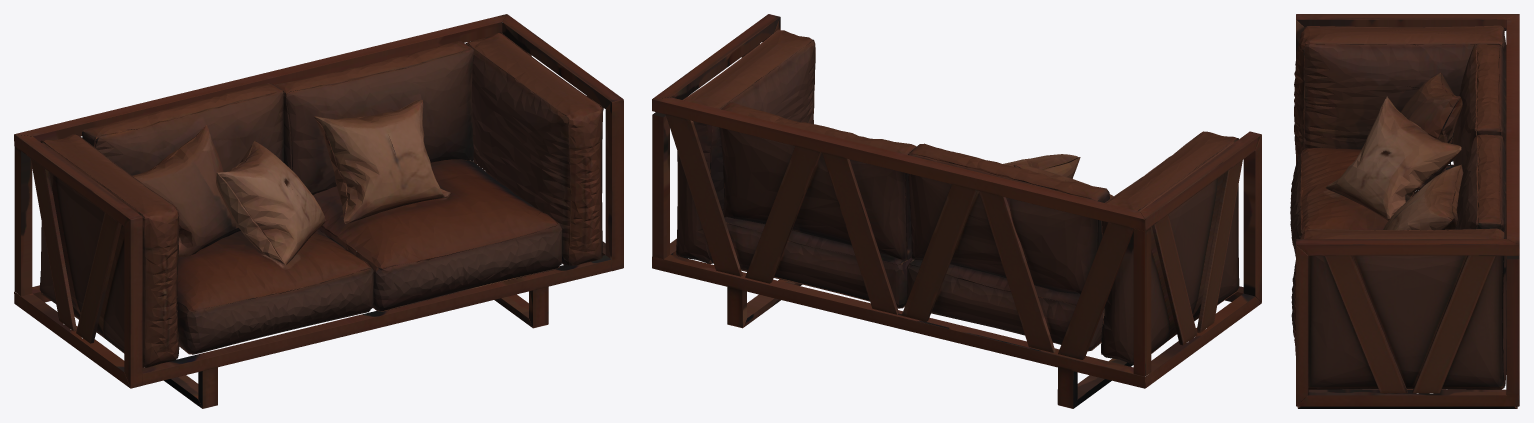
The model's file is edited_mesh.glb.
3 renders of one model, left to right at view 1: azimuth 30°, elevation 25°; view 2: azimuth 150°, elevation 25°; view 3: azimuth 270°, elevation 25°, orthographic. The views are drawn at different scales.
Parts seen in each view (by area): view 1: solid_001_wire; view 2: solid_001_wire; view 3: solid_001_wire.
Boxes of the visible parts, x1,y1,x2,y2 form: solid_001_wire: (14,14,623,408); solid_001_wire: (652,14,1261,408); solid_001_wire: (1290,14,1519,408).
Bounding box in the file's own units: 2 × 0.8164 × 0.8409.
1 material, 1 textured.
